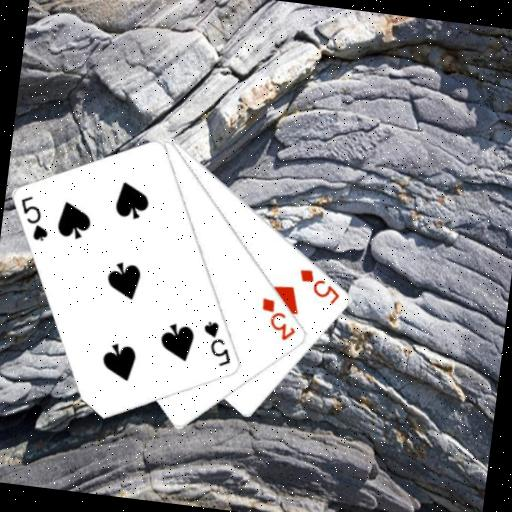3D: (255, 294, 302, 344)
5D: (294, 265, 345, 307)
5S: (196, 317, 237, 369), (14, 192, 55, 244)
